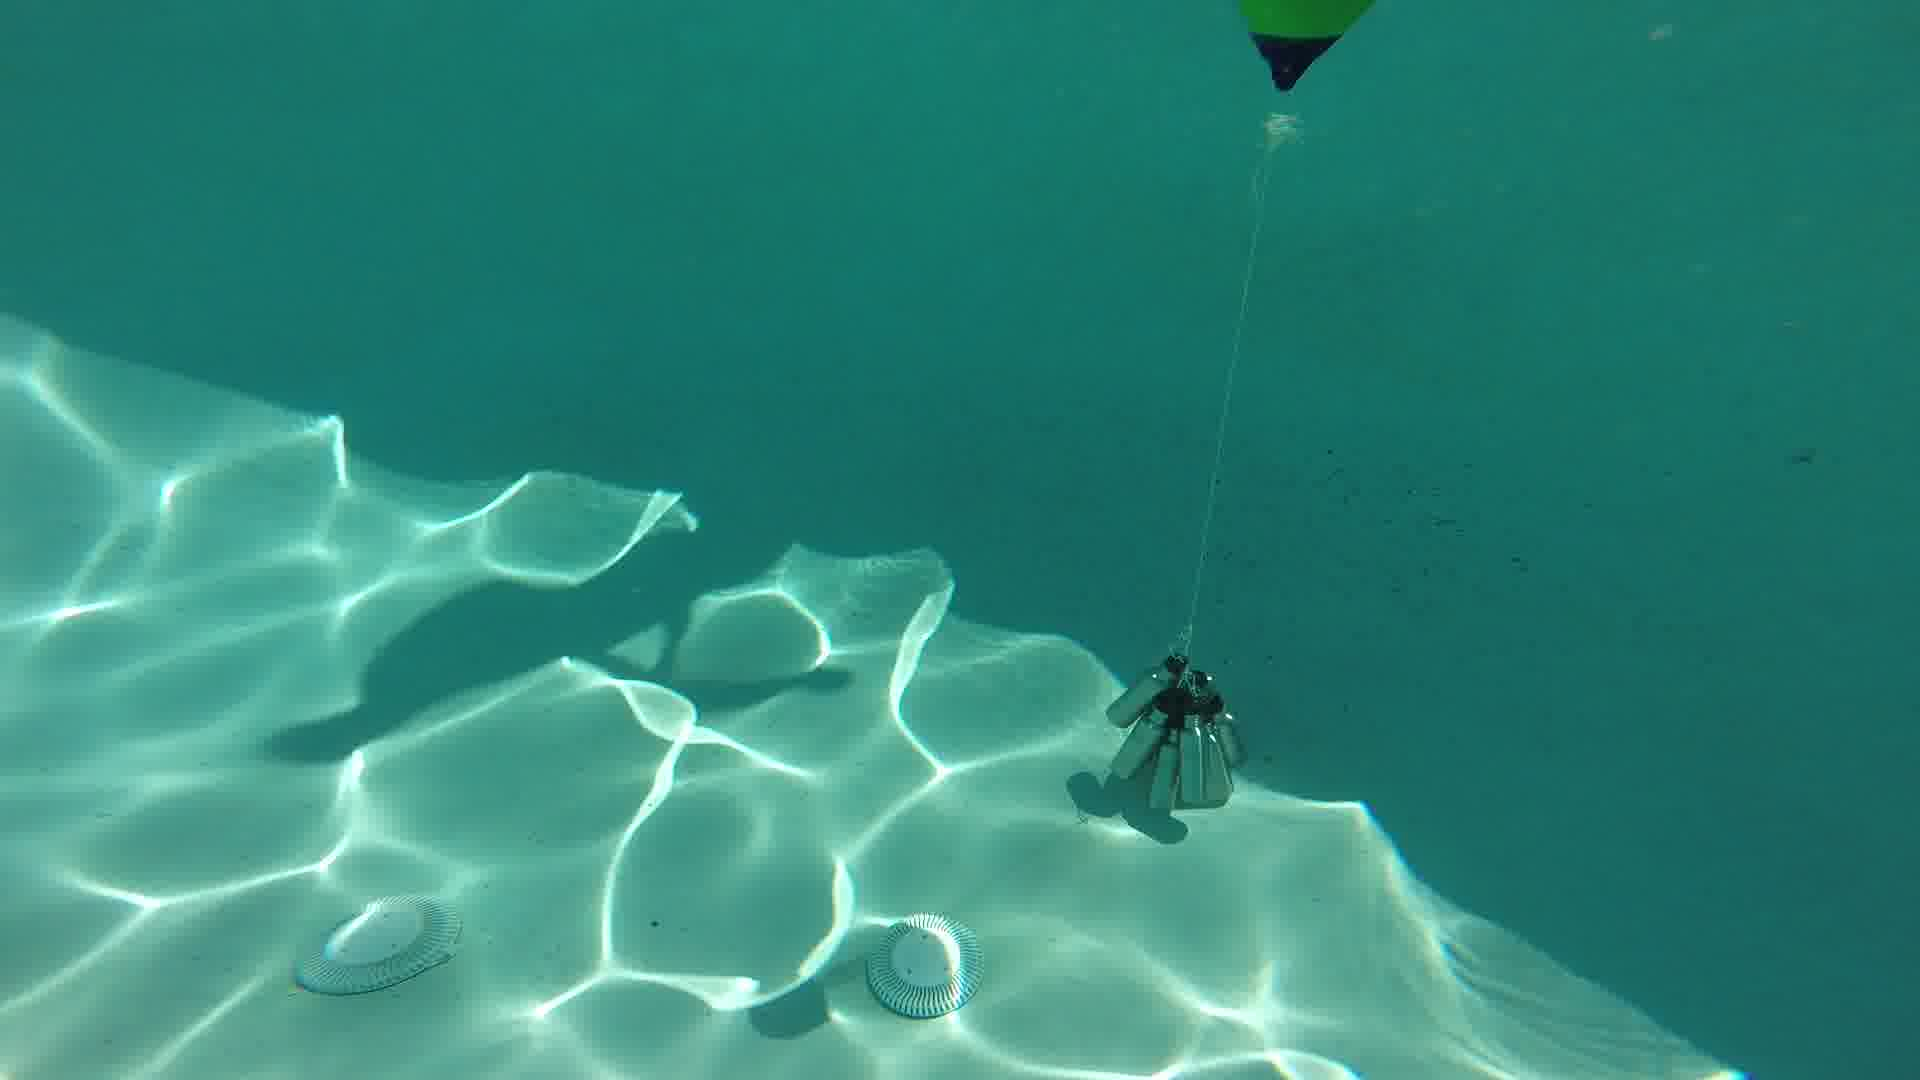yellow_buoy: (1238, 1, 1375, 145)
